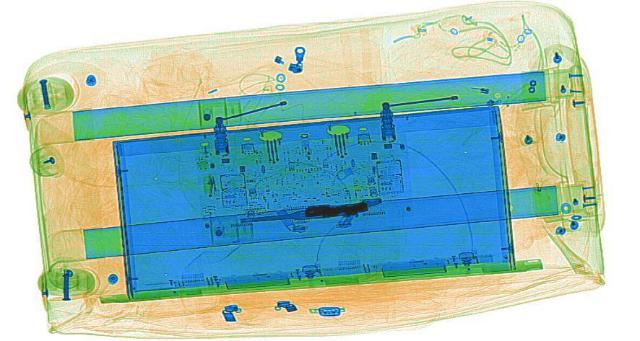Gun: (232, 194, 386, 230)
